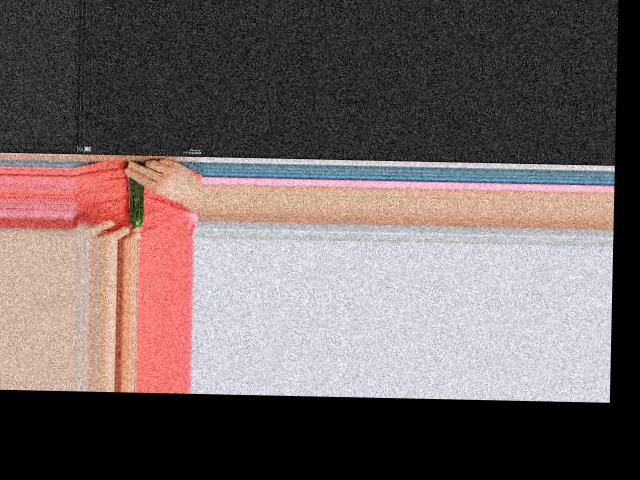cucumber: (128, 176, 145, 227)
